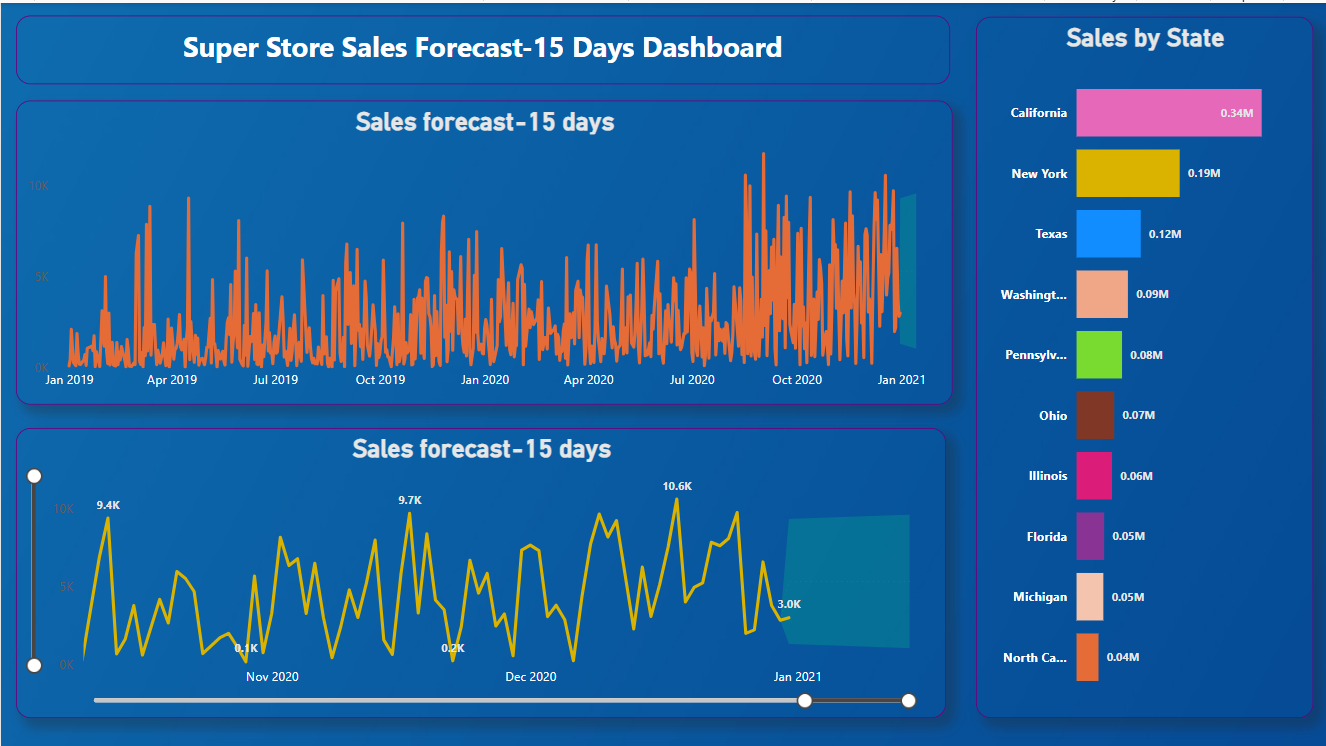

Layout of this report page (visuals, bound fields, positions):
{"tool":"powerbi","page":{"name":"Page 2","canvas":[1280,720],"ordinal":1},"visuals":[{"type":"lineChart","title":"Sales forecast-15 days","fields":{"Y":["Sum(SuperStore_Sales_Dataset.Sales)"],"Category":["SuperStore_Sales_Dataset.Order Date"]},"box":[15,93.8,903.8,293.8],"z":0},{"type":"lineChart","title":"Sales forecast-15 days","fields":{"Y":["Sum(SuperStore_Sales_Dataset.Sales)"],"Category":["SuperStore_Sales_Dataset.Order Date"]},"box":[15,410,897.5,280],"z":1000},{"type":"barChart","title":"Sales by State","fields":{"Y":["Sum(SuperStore_Sales_Dataset.Sales)"],"Category":["SuperStore_Sales_Dataset.State"]},"box":[941.4,12.9,325.7,677.1],"z":2000},{"type":"textbox","box":[15,12.5,901.2,66.2],"z":3000}]}

Visuals, with their boxes in screenshot pixels (x1, y1, x2, y2), scaled from the page's 1280x720 canvas onto the 1326x746 screenshot:
"Sales forecast-15 days" lineChart: BBox(16, 97, 952, 402)
"Sales forecast-15 days" lineChart: BBox(16, 425, 945, 715)
"Sales by State" barChart: BBox(975, 13, 1313, 715)
textbox: BBox(16, 13, 949, 82)
